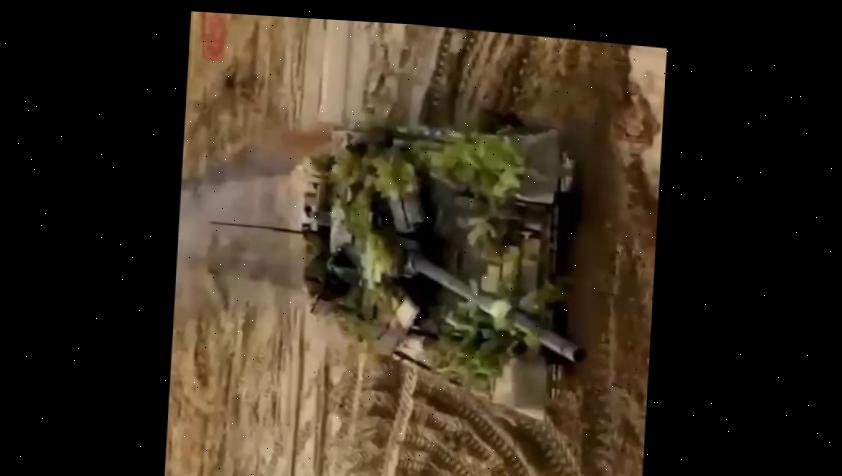tank: (291, 103, 598, 425)
